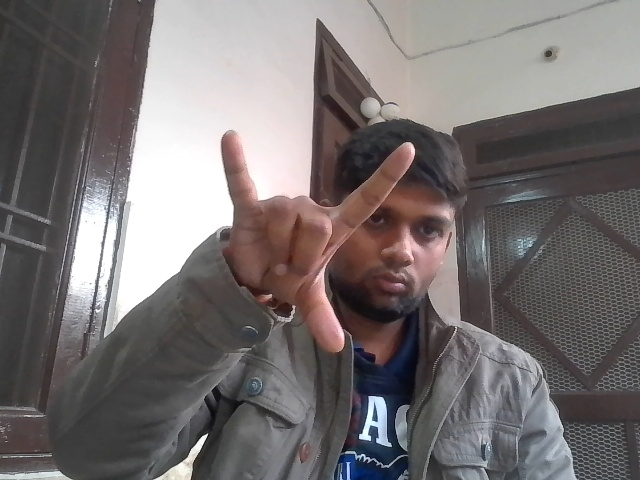ILoveYou: (198, 123, 421, 368)
